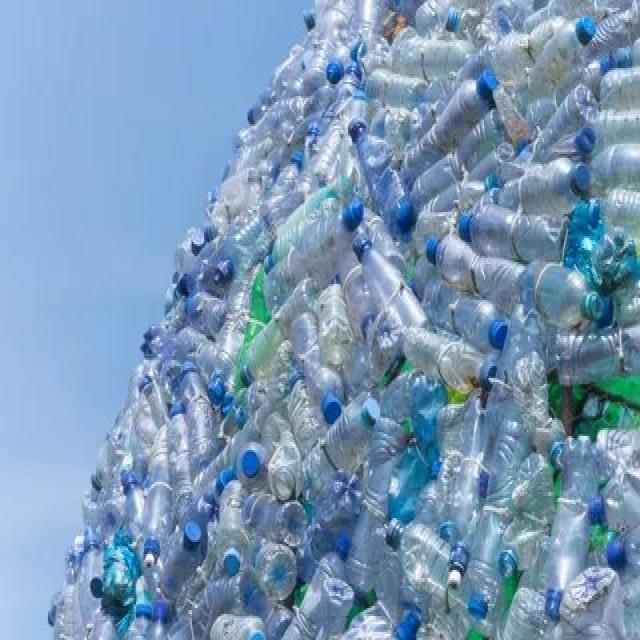blue: (260, 197, 363, 314), (499, 453, 556, 576), (423, 277, 509, 349)
